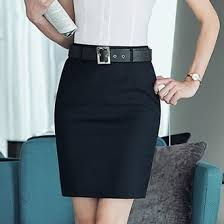F_tailored skirt: (47, 45, 171, 215)
